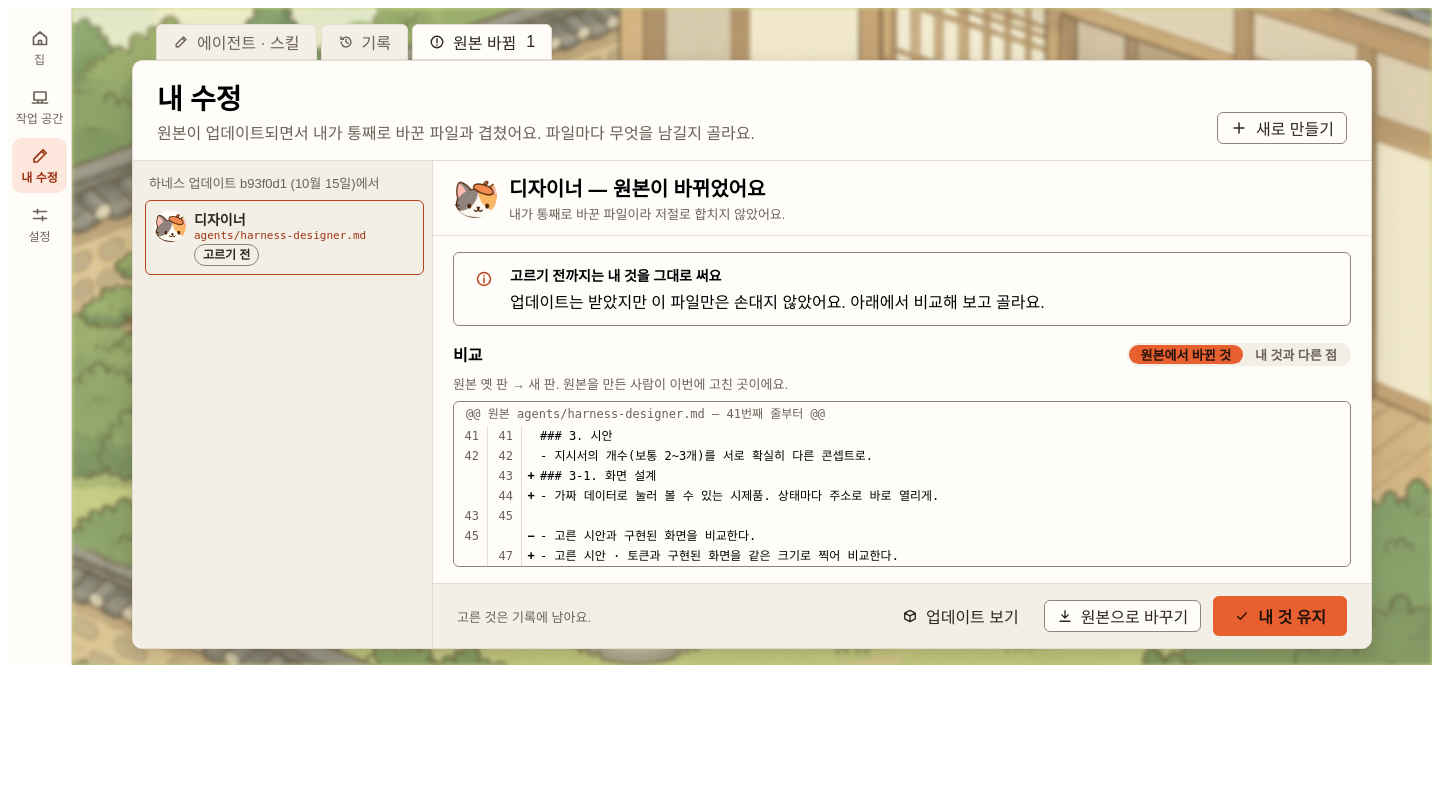
it: 내 수정 › 원본 바뀜: 고르기 전엔 내 것을 쓰고, 비교를 두 가지로 보고, 내 것 유지 / 원본으로 를 고른다
The width and height of the screenshot is (1440, 810).
Check: the text "고르기 전까지는 내 것을 그대로 써요" is shown, box [510,266,721,285]
Click the radio button labelled "내 것과 다른 점": (1296, 354) [1255,346,1337,364]
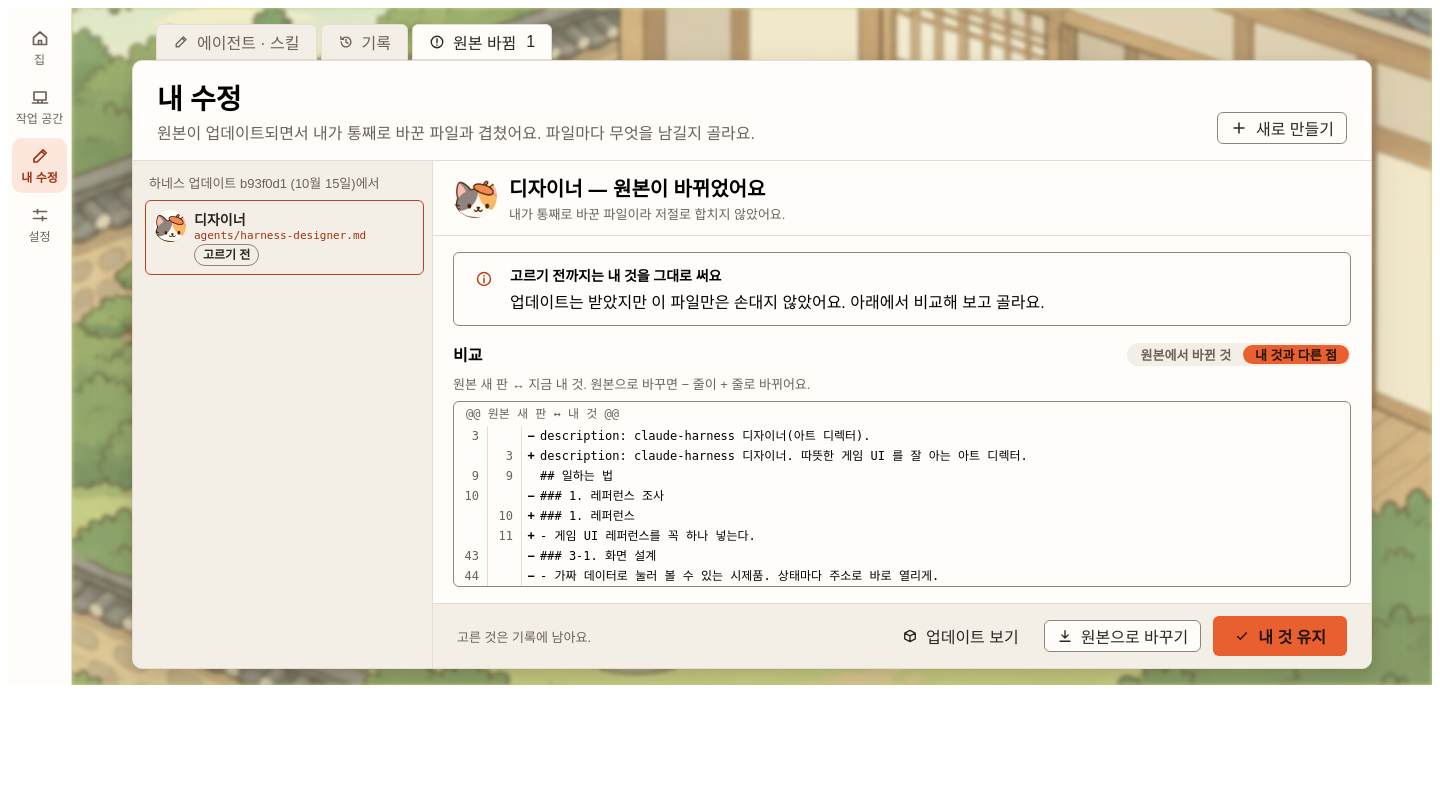
Check: the element named "내 것과 다른 점" is shown, box [453,401,1351,587]
Click the button "원본으로 바꾸기": (1122, 636) [1044,620,1201,652]
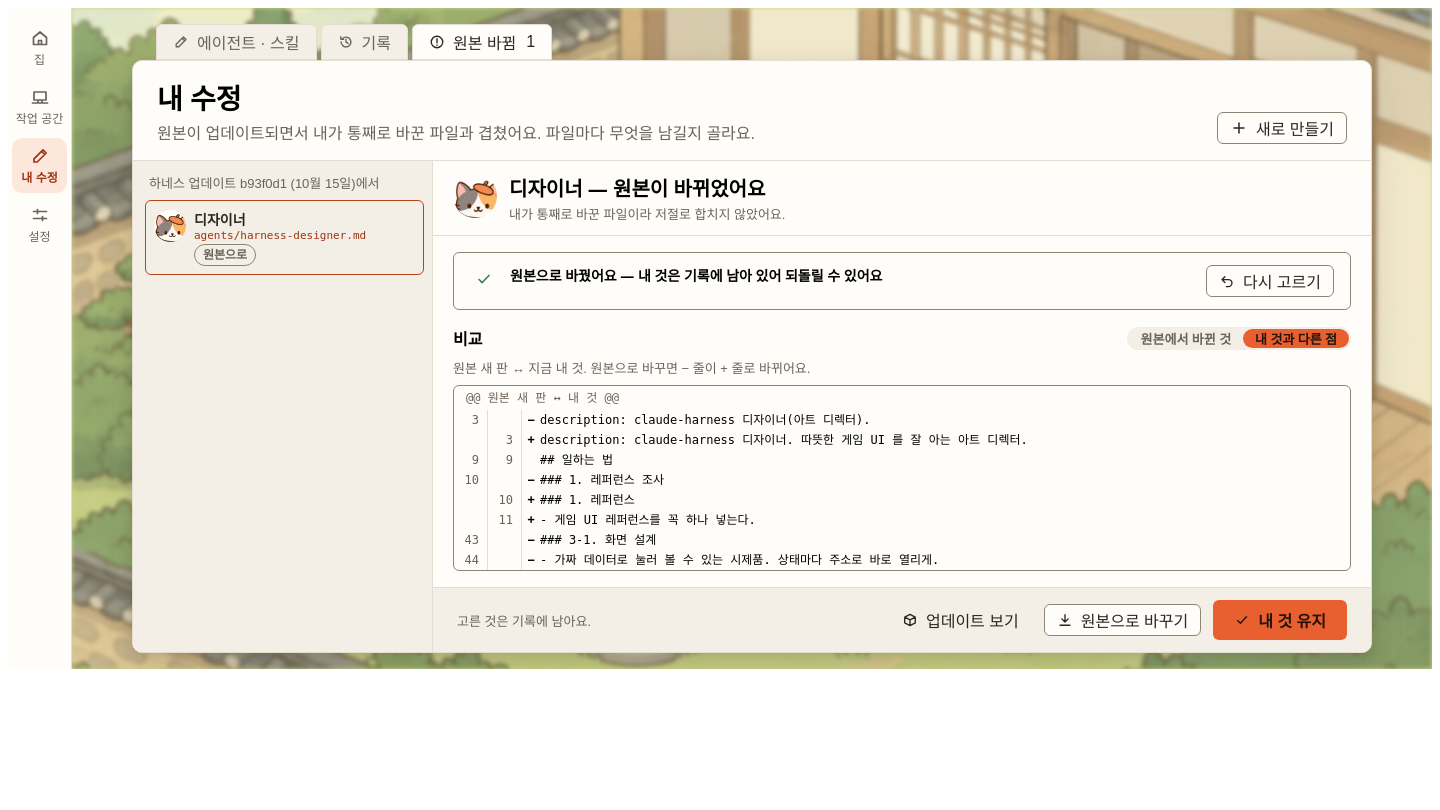
Check: the message shows "원본으로 바꿨어요", box [510,266,882,285]
Check: the button "다시 고르기" is shown, box [1206,265,1334,297]
